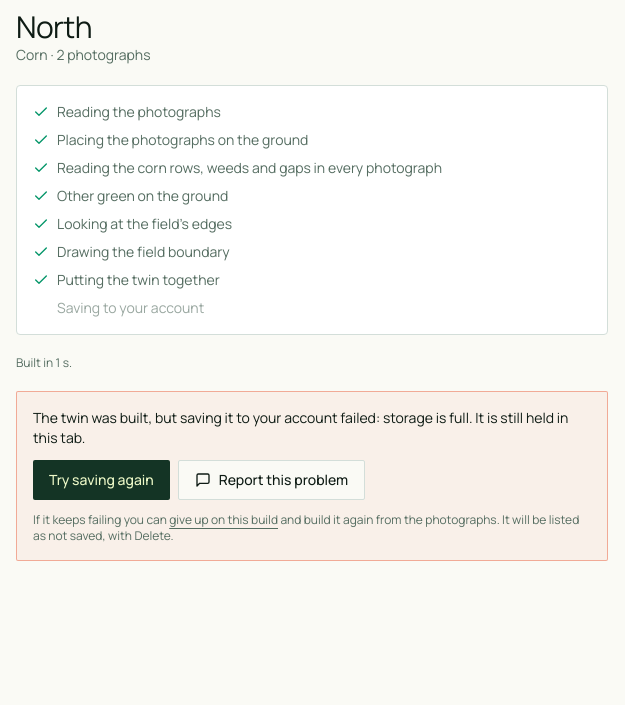
the New Field Twin page after a build › a save that keeps failing shows the way out, and taking it returns to the form
Expected: the button "Try saving again" is shown, [33,460,170,500]
Step 1. Click the button "give up on this build" → (224, 520), box [169,512,278,528]
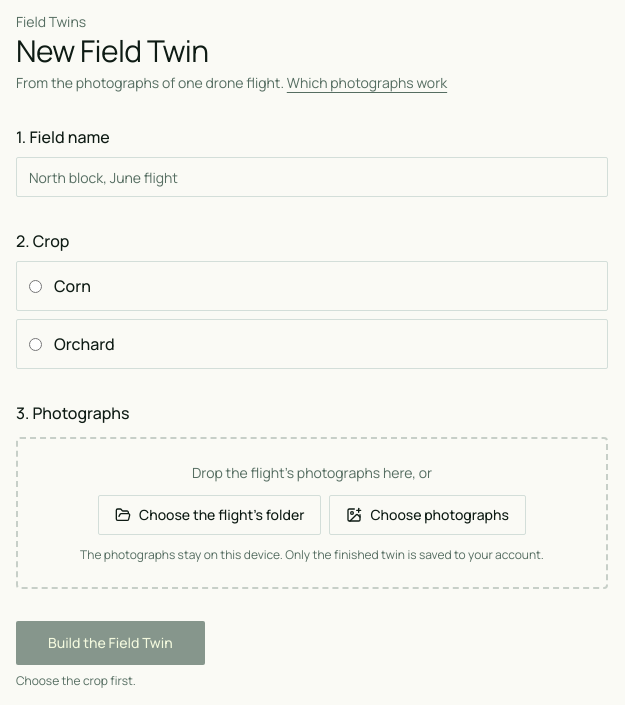
Expected: the button "Build the Field Twin" is shown, [16,621,205,665]
